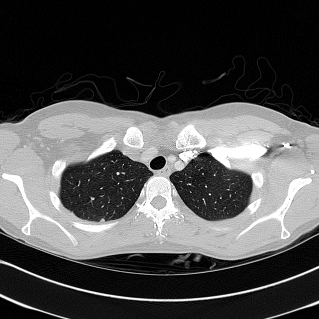nodule: (100, 218, 104, 222)
